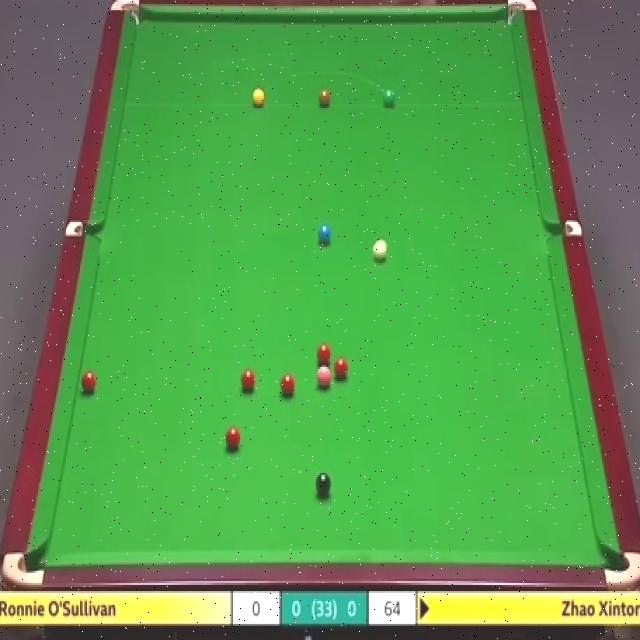black-ball: (315, 470, 332, 494)
blue-ball: (317, 225, 332, 243)
brown-ball: (319, 87, 331, 108)
green-ball: (382, 90, 397, 107)
pink-ball: (318, 364, 332, 385)
red-ball: (280, 374, 298, 396), (333, 356, 348, 382), (316, 344, 333, 364), (242, 368, 256, 392), (226, 426, 240, 450), (82, 371, 96, 394)
white-ball: (370, 238, 388, 262)
yellow-ball: (252, 88, 265, 108)
